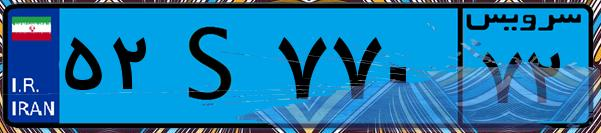0: (385, 28, 445, 110)
2: (525, 38, 570, 115), (110, 28, 158, 98)
5: (57, 26, 110, 100)
7: (270, 28, 330, 110), (330, 28, 385, 110), (475, 38, 525, 113)
S: (158, 12, 270, 120)
